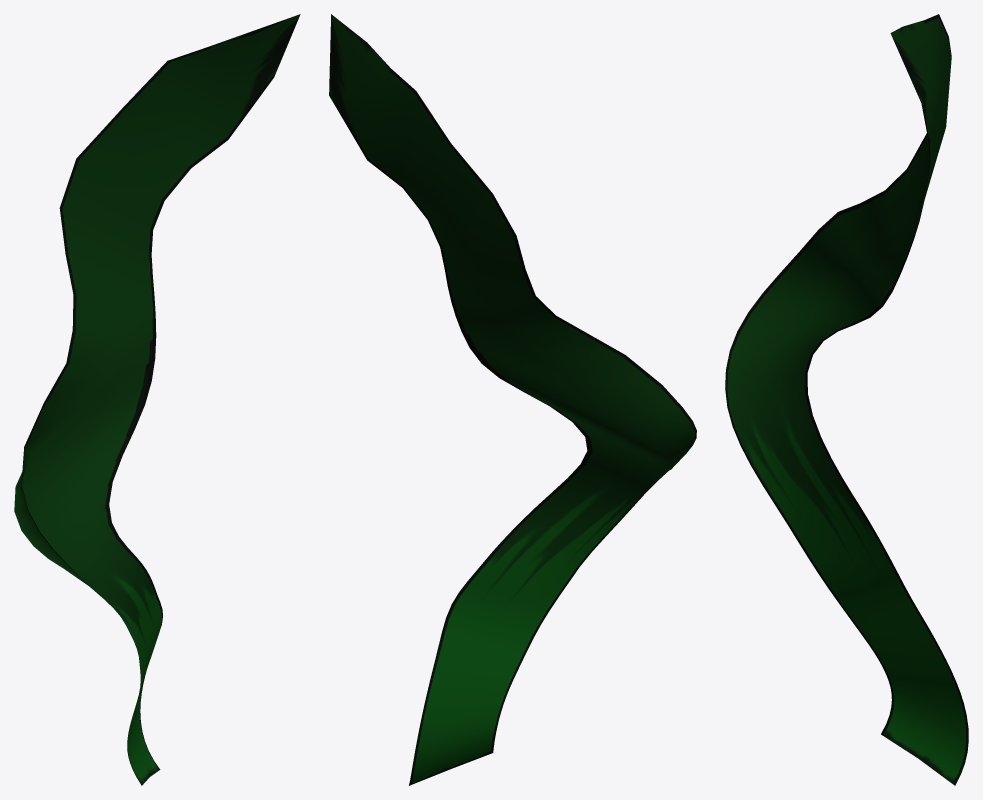
Rendered from alga2.fbx.
The picture shows the model from 3 angles, left to right: view 1: azimuth 30°, elevation 25°; view 2: azimuth 150°, elevation 25°; view 3: azimuth 270°, elevation 25°; orthographic projection. The views are drawn at different scales.
Parts seen in each view (by area): view 1: alga2; view 2: alga2; view 3: alga2.
Part boxes in pixels (box(x1,y1,x2,y2)): alga2: box(14, 14, 300, 785); alga2: box(329, 14, 696, 785); alga2: box(725, 14, 968, 785).
Size of the model in its own units: 18.8 by 41.69 by 11.35.
